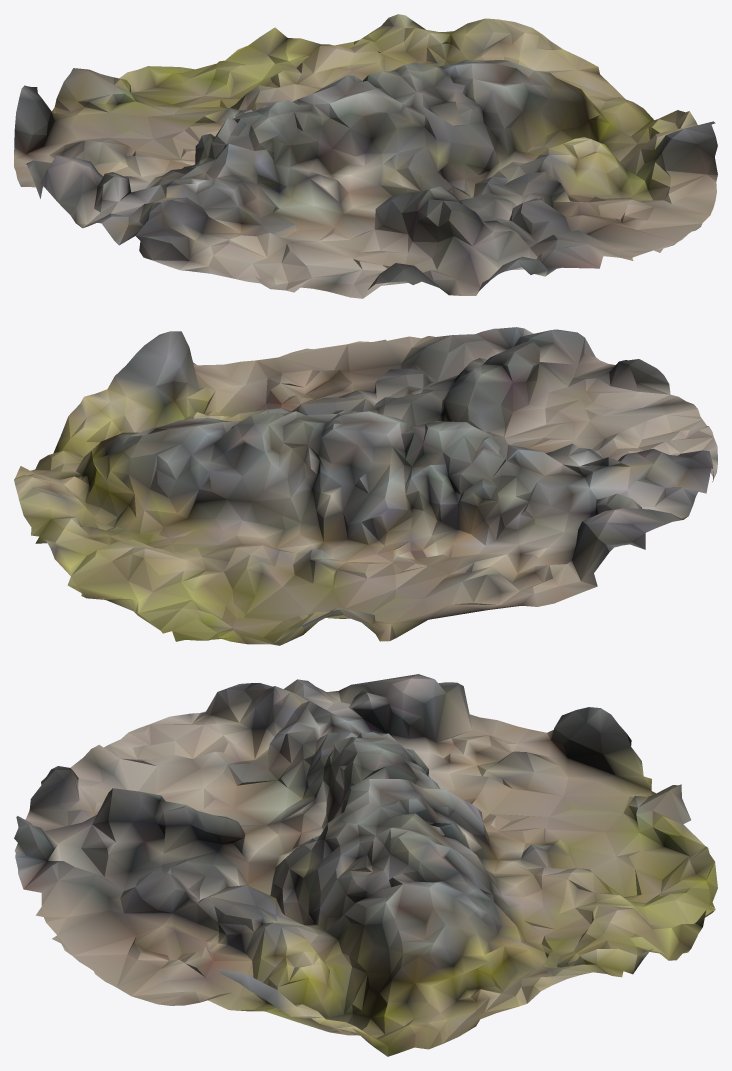
Rendered from rock.glb.
3 renders of one model, top to bottom at view 1: azimuth 30°, elevation 25°; view 2: azimuth 150°, elevation 25°; view 3: azimuth 270°, elevation 25°, orthographic.
Parts seen in each view (by area): view 1: rock; view 2: rock; view 3: rock.
Part boxes in pixels (x1,y1,x2,y2): rock: (14,14,717,298); rock: (14,327,717,645); rock: (14,674,717,1056).
Bounding box in the file's own units: 5.06 × 1.04 × 5.06.
